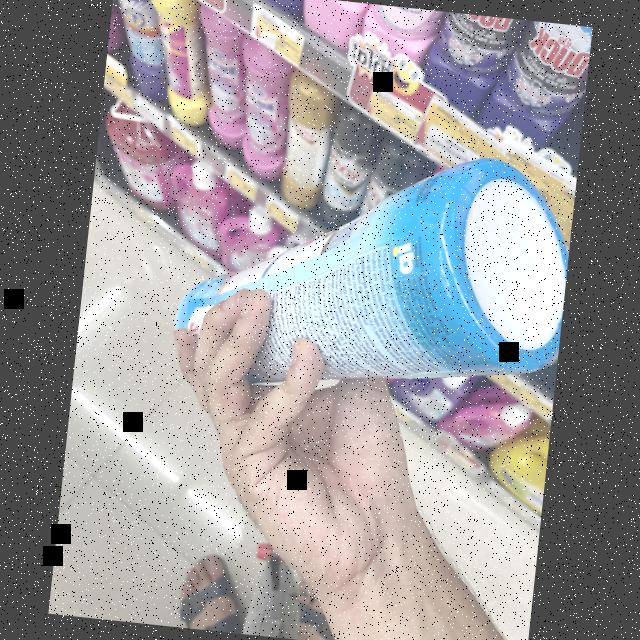chemical_plastic_bottle: (163, 118, 578, 422)
